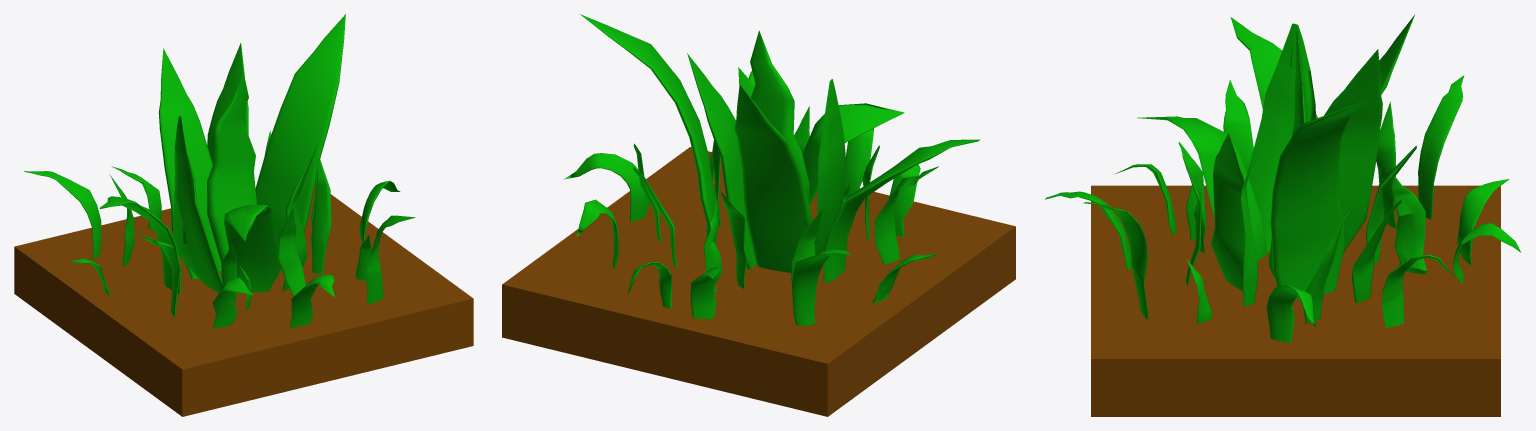
The model's file is grass.fbx.
3 views of the same model, side by side, from view 1: azimuth 30°, elevation 25°; view 2: azimuth 150°, elevation 25°; view 3: azimuth 270°, elevation 25° (orthographic). The views are drawn at different scales.
Parts seen in each view (by area): view 1: polySurface46, polySurface33, polySurface29, polySurface28, polySurface31, polySurface56, polySurface52, polySurface34, polySurface55, polySurface32, polySurface41, polySurface47 (+10 smaller); view 2: polySurface46, polySurface28, polySurface33, polySurface31, polySurface32, polySurface29, polySurface55, polySurface56, polySurface41, polySurface36, polySurface44, polySurface48 (+10 smaller); view 3: polySurface46, polySurface33, polySurface32, polySurface31, polySurface30, polySurface56, polySurface41, polySurface50, polySurface36, polySurface55, polySurface47, polySurface44 (+15 smaller).
Part boxes in pixels (box(x1,y1,x2,y2)): polySurface46: box(14, 185, 473, 416); polySurface33: box(255, 14, 345, 243); polySurface29: box(207, 71, 257, 262); polySurface28: box(158, 48, 221, 279); polySurface31: box(173, 116, 222, 292); polySurface56: box(224, 205, 281, 292); polySurface52: box(311, 153, 327, 274); polySurface34: box(277, 208, 305, 296); polySurface55: box(99, 196, 181, 294); polySurface32: box(207, 43, 248, 164); polySurface41: box(24, 171, 101, 259); polySurface47: box(366, 215, 415, 304); polySurface46: box(502, 147, 1015, 416); polySurface28: box(734, 84, 812, 272); polySurface33: box(580, 14, 719, 244); polySurface31: box(814, 79, 845, 254); polySurface32: box(687, 53, 756, 269); polySurface29: box(750, 30, 809, 204); polySurface55: box(823, 139, 980, 282); polySurface56: box(802, 103, 904, 206); polySurface41: box(792, 249, 850, 325); polySurface36: box(564, 153, 648, 221); polySurface44: box(874, 166, 938, 264); polySurface48: box(843, 128, 873, 197); polySurface46: box(1091, 185, 1500, 416); polySurface33: box(1270, 100, 1366, 299); polySurface32: box(1324, 49, 1382, 252); polySurface31: box(1247, 23, 1315, 251); polySurface30: box(1210, 133, 1247, 290); polySurface56: box(1137, 116, 1267, 260); polySurface41: box(1418, 75, 1464, 219); polySurface50: box(1391, 175, 1426, 274); polySurface36: box(1266, 284, 1316, 342); polySurface55: box(1230, 17, 1317, 118); polySurface47: box(1083, 202, 1148, 318); polySurface44: box(1223, 80, 1253, 173).
Size of the model in its own units: 1.75 by 1.25 by 1.75.
